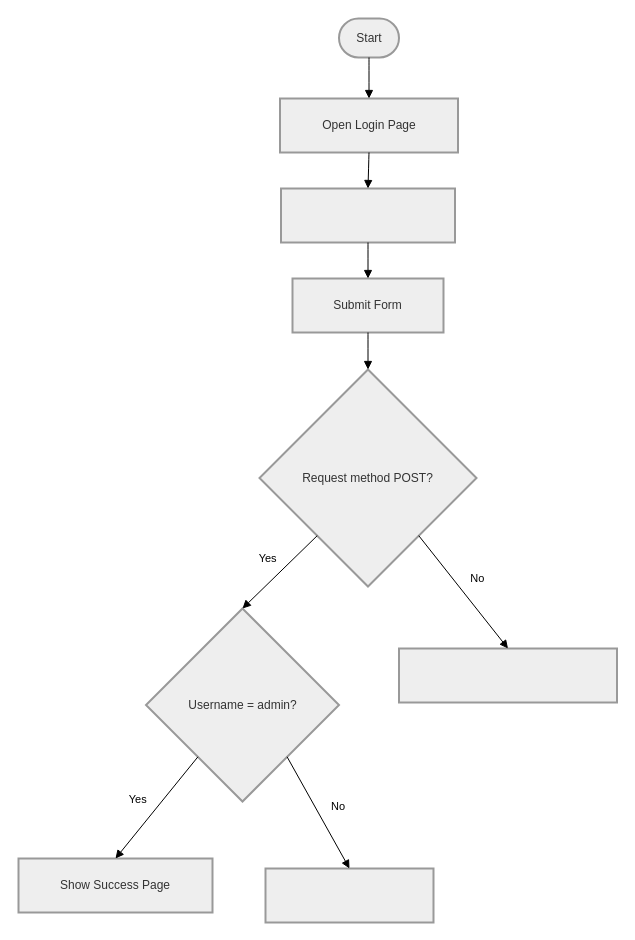
Image size: 635x940. Some labels were removed from this diagram. Each missing label, with the box of its shape:
Enter Username: (280, 187, 456, 243)
Go back to Login Page: (398, 647, 618, 703)
Show Error: (264, 867, 434, 923)
